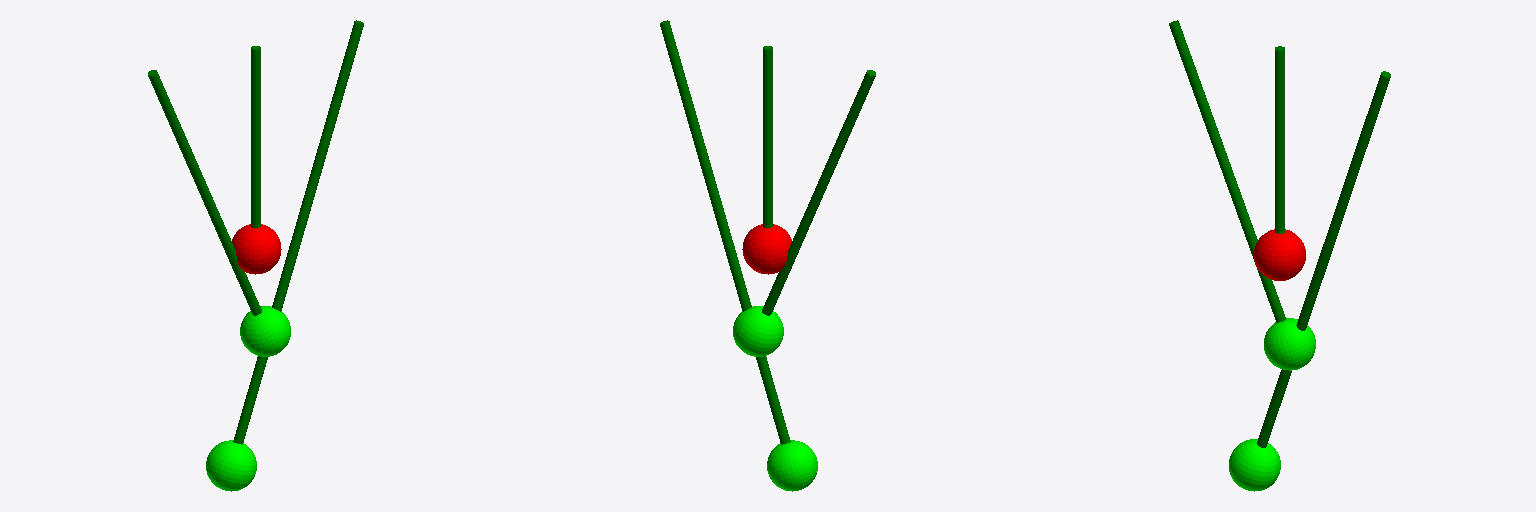
The robot description file, URDF, robot "straw_cluster8":
<?xml version="1.0" ?>
<!-- =================================================================================== -->
<!-- |    This document was autogenerated by xacro from cluster8_extras.xacro          | -->
<!-- |    EDITING THIS FILE BY HAND IS NOT RECOMMENDED                                 | -->
<!-- =================================================================================== -->
<robot name="straw_cluster8" xmlns:xacro="http://www.ros.org/wiki/xacro">
  <link name="world"/>
  <!-- Robot21 -->
  <link name="/yball_stem81">
    <gravity>1</gravity>
    <inertial>
      <origin rpy="0 0 0" xyz="0 0 0"/>
      <mass value=".00001"/>
      <inertia ixx="0.0000004" ixy="0.0" ixz="0.0" iyy="0.0000004" iyz="0.0" izz="0.0000004"/>
    </inertial>
    <visual>
      <geometry>
        <sphere radius=".00001"/>
      </geometry>
    </visual>
    <collision>
      <geometry>
        <sphere radius=".00001"/>
      </geometry>
    </collision>
  </link>
  <gazebo reference="/yball_stem81">
    <material>Gazebo/Green</material>
  </gazebo>
  <joint name="/stem81y" type="revolute">
    <parent link="world"/>
    <child link="/yball_stem81"/>
    <origin rpy="0 0 0" xyz="-0.15 -0.95 1.19"/>
    <!-- <origin xyz="0 0.06 1.19" rpy="0 0 0"/> in case of reference /base_link -->
    <axis xyz="0 1 0"/>
    <dynamics damping="0.0001" friction="0.0002"/>
    <limit effort="0.1" lower="-3.14159265359" upper="3.14159265359" velocity="1"/>
  </joint>
  <link name="/xball_stem81">
    <gravity>1</gravity>
    <inertial>
      <origin rpy="0 0 0" xyz="0 0 0"/>
      <mass value=".00001"/>
      <inertia ixx="0.0000004" ixy="0.0" ixz="0.0" iyy="0.0000004" iyz="0.0" izz="0.0000004"/>
    </inertial>
    <visual>
      <geometry>
        <sphere radius=".00001"/>
      </geometry>
    </visual>
    <collision>
      <geometry>
        <sphere radius=".00001"/>
      </geometry>
    </collision>
  </link>
  <gazebo reference="/xball_stem81">
    <material>Gazebo/Green</material>
  </gazebo>
  <joint name="/stem81x" type="revolute">
    <parent link="/yball_stem81"/>
    <child link="/xball_stem81"/>
    <origin rpy="0 0 0" xyz="0 0 0"/>
    <axis xyz="1 0 0"/>
    <dynamics damping="0.0001" friction="0.0002"/>
    <limit effort="0.1" lower="-3.14159265359" upper="3.14159265359" velocity="0.1"/>
  </joint>
  <!-- Define stem of straw81 -->
  <link name="/stem81">
    <gravity>1</gravity>
    <inertial>
      <origin rpy="0 0 0" xyz="0 0 0"/>
      <mass value="0.0002"/>
      <inertia ixx="0.0000000005" ixy="0.0" ixz="0.0" iyy="0.0000000005" iyz="0.0" izz="0.0000000005"/>
    </inertial>
    <collision>
      <geometry>
        <cylinder length="0.13" radius="0.003"/>
      </geometry>
      <material name="green">
        <color rgba="0 0.501960784314 0 1"/>
      </material>
      <origin rpy="0 0 0" xyz="0 0 -0.065"/>
    </collision>
    <visual>
      <geometry>
        <cylinder length="0.13" radius="0.003"/>
      </geometry>
      <material name="green">
        <color rgba="0 0.501960784314 0 1"/>
      </material>
      <origin rpy="0 0 0" xyz="0 0 -0.065"/>
    </visual>
  </link>
  <gazebo reference="/stem81">
    <mu1>0.01</mu1>
    <mu2>0.01</mu2>
    <selfCollide>true</selfCollide>
    <maxContacts>2</maxContacts>
    <minDepth>0</minDepth>
    <maxVel>0.01</maxVel>
    <kp value="1"/>
    <kd value="0.1"/>
    <material>Gazebo/Green</material>
  </gazebo>
  <joint name="/xball_stem81" type="fixed">
    <parent link="/xball_stem81"/>
    <child link="/stem81"/>
    <origin rpy="0 0 0" xyz="0 0 0"/>
  </joint>
  <!-- Define straw81 -->
  <link name="/straw81">
    <gravity>1</gravity>
    <inertial>
      <origin rpy="0 0 0" xyz="0 0 0"/>
      <mass value="0.0002"/>
      <inertia ixx="0.00000018" ixy="0.0" ixz="0.0" iyy="0.00000018" iyz="0.0" izz="0.00000018"/>
    </inertial>
    <collision>
      <geometry>
        <sphere radius="0.015"/>
      </geometry>
    </collision>
    <visual>
      <geometry>
        <sphere radius="0.015"/>
      </geometry>
      <material name="Red">
        <color rgba="1 0 0 1"/>
      </material>
    </visual>
  </link>
  <gazebo reference="/straw81">
    <mu1>0.01</mu1>
    <mu2>0.01</mu2>
    <selfCollide>true</selfCollide>
    <maxContacts>2</maxContacts>
    <minDepth>0</minDepth>
    <maxVel>0.01</maxVel>
    <kp value="1000"/>
    <kd value="1"/>
    <material>Gazebo/Red</material>
  </gazebo>
  <joint name="/straw1_stem81" type="revolute">
    <parent link="/stem81"/>
    <child link="/straw81"/>
    <origin rpy="0 0 0" xyz="0 0 -0.13"/>
    <axis xyz="0 1 0"/>
    <dynamics damping="0.0000001" friction="0.0000002"/>
    <limit effort="0.01" lower="-3.14159265359" upper="3.14159265359" velocity="0.1"/>
  </joint>
  <!-- Robot22 -->
  <link name="/yball_stem82">
    <gravity>1</gravity>
    <inertial>
      <origin rpy="0 0 0" xyz="0 0 0"/>
      <mass value=".00001"/>
      <inertia ixx="0.00001" ixy="0.0" ixz="0.0" iyy="0.00001" iyz="0.0" izz="0.00001"/>
    </inertial>
    <visual>
      <geometry>
        <sphere radius=".00001"/>
      </geometry>
    </visual>
    <collision>
      <geometry>
        <sphere radius=".00001"/>
      </geometry>
    </collision>
  </link>
  <gazebo reference="/yball_stem82">
    <material>Gazebo/Green</material>
  </gazebo>
  <joint name="/stem82y" type="revolute">
    <parent link="world"/>
    <child link="/yball_stem82"/>
    <origin rpy="0 0.314159265359 0" xyz="-0.08 -0.95 1.19"/>
    <!-- <origin xyz="-0.03 0.06 1.21" rpy="0 0 0"/> in case of /base_link as reference frame -->
    <axis xyz="0 1 0"/>
    <dynamics damping="0.001" friction="0.002"/>
    <!--<dynamics damping="100" friction="100000"/> -->
    <limit effort="100" lower="-3.14159265359" upper="3.14159265359" velocity="1"/>
  </joint>
  <link name="/xball_stem82">
    <gravity>1</gravity>
    <inertial>
      <origin rpy="0 0 0" xyz="0 0 0"/>
      <mass value=".00001"/>
      <inertia ixx="0.00001" ixy="0.0" ixz="0.0" iyy="0.00001" iyz="0.0" izz="0.00001"/>
    </inertial>
    <visual>
      <geometry>
        <sphere radius=".00001"/>
      </geometry>
    </visual>
    <collision>
      <geometry>
        <sphere radius=".00001"/>
      </geometry>
    </collision>
  </link>
  <gazebo reference="/xball_stem82">
    <material>Gazebo/Green</material>
  </gazebo>
  <joint name="/stem82x" type="revolute">
    <parent link="/yball_stem82"/>
    <child link="/xball_stem82"/>
    <origin rpy="0 0 0" xyz="0 0 0"/>
    <axis xyz="1 0 0"/>
    <dynamics damping="0.001" friction="0.002"/>
    <!--<dynamics damping="1" friction="1000" /> -->
    <limit effort="100" lower="-3.14159265359" upper="3.14159265359" velocity="1"/>
  </joint>
  <!-- Define stem of straw82 -->
  <link name="/stem82">
    <gravity>1</gravity>
    <inertial>
      <origin rpy="0 0 0" xyz="0 0 0"/>
      <mass value="0.0001"/>
      <inertia ixx="0.0000000005" ixy="0.0" ixz="0.0" iyy="0.0000000005" iyz="0.0" izz="0.0000000005"/>
    </inertial>
    <collision>
      <geometry>
        <cylinder length="0.28" radius="0.003"/>
        <!-- was 0.15 -->
      </geometry>
      <material name="green">
        <color rgba="0 0.501960784314 0 1"/>
      </material>
      <origin rpy="0 0 0" xyz="0 0 -0.14"/>
    </collision>
    <visual>
      <geometry>
        <cylinder length="0.28" radius="0.003"/>
      </geometry>
      <material name="green">
        <color rgba="0 0.501960784314 0 1"/>
      </material>
      <origin rpy="0 0 0" xyz="0 0 -0.14"/>
    </visual>
  </link>
  <gazebo reference="/stem82">
    <mu1>0.01</mu1>
    <mu2>0.01</mu2>
    <selfCollide>true</selfCollide>
    <maxContacts>2</maxContacts>
    <minDepth>0</minDepth>
    <maxVel>0.01</maxVel>
    <kp value="1000"/>
    <kd value="1"/>
    <material>Gazebo/Green</material>
  </gazebo>
  <joint name="/xball_stem82" type="fixed">
    <parent link="/xball_stem82"/>
    <child link="/stem82"/>
    <origin rpy="0 0 0" xyz="0 0 0"/>
  </joint>
  <!-- Define straw82 -->
  <link name="/straw82">
    <gravity>1</gravity>
    <inertial>
      <origin rpy="0 0 0" xyz="0 0 0"/>
      <mass value="0.0002"/>
      <inertia ixx="0.00000018" ixy="0.0" ixz="0.0" iyy="0.00000018" iyz="0.0" izz="0.00000018"/>
    </inertial>
    <collision>
      <geometry>
        <sphere radius="0.015"/>
      </geometry>
    </collision>
    <visual>
      <geometry>
        <sphere radius="0.015"/>
      </geometry>
      <material name="green">
        <color rgba="0 1 0 1"/>
      </material>
    </visual>
  </link>
  <gazebo reference="/straw82">
    <mu1>0.01</mu1>
    <mu2>0.01</mu2>
    <selfCollide>true</selfCollide>
    <maxContacts>2</maxContacts>
    <minDepth>0</minDepth>
    <maxVel>0.01</maxVel>
    <kp value="1000"/>
    <kd value="1"/>
    <material>Gazebo/Green</material>
  </gazebo>
  <joint name="/straw82_stem82" type="revolute">
    <parent link="/stem82"/>
    <child link="/straw82"/>
    <origin rpy="0 0 0" xyz="0 0 -0.28"/>
    <axis xyz="0 1 0"/>
    <dynamics damping="0.0000001" friction="0.0000002"/>
    <limit effort="1" lower="-3.14159265359" upper="3.14159265359" velocity="0.1"/>
  </joint>
  <!-- Robot 23 -->
  <link name="/yball_stem83">
    <gravity>1</gravity>
    <inertial>
      <origin rpy="0 0 0" xyz="0 0 0"/>
      <mass value=".00001"/>
      <inertia ixx="0.00001" ixy="0.0" ixz="0.0" iyy="0.00001" iyz="0.0" izz="0.00001"/>
    </inertial>
    <visual>
      <geometry>
        <sphere radius=".00001"/>
      </geometry>
    </visual>
    <collision>
      <geometry>
        <sphere radius=".00001"/>
      </geometry>
    </collision>
  </link>
  <gazebo reference="/yball_stem83">
    <material>Gazebo/Green</material>
  </gazebo>
  <joint name="/stem83y" type="revolute">
    <parent link="world"/>
    <child link="/yball_stem83"/>
    <origin rpy="0 -0.392699081699 0" xyz="-0.22 -0.95 1.19"/>
    <!-- <origin xyz="-0.03 0.06 1.21" rpy="0 0 0"/> in case of /base_link as reference frame -->
    <axis xyz="0 1 0"/>
    <dynamics damping="0.0001" friction="0.0002"/>
    <!--<dynamics damping="100" friction="100000"/>-->
    <limit effort="10" lower="-3.14159265359" upper="3.14159265359" velocity="1"/>
  </joint>
  <link name="/xball_stem83">
    <gravity>1</gravity>
    <inertial>
      <origin rpy="0 0 0" xyz="0 0 0"/>
      <mass value=".00001"/>
      <inertia ixx="0.00001" ixy="0.0" ixz="0.0" iyy="0.00001" iyz="0.0" izz="0.00001"/>
    </inertial>
    <visual>
      <geometry>
        <sphere radius=".00001"/>
      </geometry>
    </visual>
    <collision>
      <geometry>
        <sphere radius=".00001"/>
      </geometry>
    </collision>
  </link>
  <gazebo reference="/xball_stem83">
    <material>Gazebo/Green</material>
  </gazebo>
  <joint name="/stem83x" type="revolute">
    <parent link="/yball_stem83"/>
    <child link="/xball_stem83"/>
    <origin rpy="0 0 0" xyz="0 0 0"/>
    <axis xyz="1 0 0"/>
    <dynamics damping="0.0001" friction="0.0002"/>
    <limit effort="10" lower="-3.14159265359" upper="3.14159265359" velocity="1"/>
  </joint>
  <!-- Define stem of straw83 -->
  <link name="/stem83">
    <gravity>1</gravity>
    <inertial>
      <origin rpy="0 0 0" xyz="0 0 0"/>
      <mass value="0.0001"/>
      <inertia ixx="0.0000000005" ixy="0.0" ixz="0.0" iyy="0.0000000005" iyz="0.0" izz="0.0000000005"/>
    </inertial>
    <collision>
      <geometry>
        <cylinder length="0.2" radius="0.003"/>
        <!-- was 0.15 -->
      </geometry>
      <material name="green">
        <color rgba="0 0.501960784314 0 1"/>
      </material>
      <origin rpy="0 0 0" xyz="0 0 -0.1"/>
    </collision>
    <visual>
      <geometry>
        <cylinder length="0.2" radius="0.003"/>
      </geometry>
      <material name="green">
        <color rgba="0 0.501960784314 0 1"/>
      </material>
      <origin rpy="0 0 0" xyz="0 0 -0.1"/>
    </visual>
  </link>
  <gazebo reference="/stem83">
    <mu1>0.01</mu1>
    <mu2>0.01</mu2>
    <selfCollide>true</selfCollide>
    <maxContacts>2</maxContacts>
    <minDepth>0</minDepth>
    <maxVel>0.01</maxVel>
    <kp value="10"/>
    <kd value="1"/>
    <material>Gazebo/Green</material>
  </gazebo>
  <joint name="/xball_stem83" type="fixed">
    <parent link="/xball_stem83"/>
    <child link="/stem83"/>
    <origin rpy="0 0 0" xyz="0 0 0"/>
  </joint>
  <!-- Define straw83 -->
  <link name="/straw83">
    <gravity>1</gravity>
    <inertial>
      <origin rpy="0 0 0" xyz="0 0 0"/>
      <mass value="0.0002"/>
      <inertia ixx="0.00000018" ixy="0.0" ixz="0.0" iyy="0.00000018" iyz="0.0" izz="0.00000018"/>
    </inertial>
    <collision>
      <geometry>
        <sphere radius="0.015"/>
      </geometry>
    </collision>
    <visual>
      <geometry>
        <sphere radius="0.015"/>
      </geometry>
      <material name="green">
        <color rgba="0 1 0 1"/>
      </material>
    </visual>
  </link>
  <gazebo reference="/straw83">
    <mu1>0.01</mu1>
    <mu2>0.01</mu2>
    <selfCollide>true</selfCollide>
    <maxContacts>2</maxContacts>
    <minDepth>0</minDepth>
    <maxVel>0.01</maxVel>
    <kp value="10"/>
    <kd value="1"/>
    <material>Gazebo/Green</material>
  </gazebo>
  <joint name="/straw83_stem83" type="revolute">
    <parent link="/stem83"/>
    <child link="/straw83"/>
    <origin rpy="0 0 0" xyz="0 0 -0.2"/>
    <axis xyz="0 1 0"/>
    <dynamics damping="0.0000001" friction="0.0000002"/>
    <limit effort="0.01" lower="-3.14159265359" upper="3.14159265359" velocity="0.1"/>
  </joint>
  <gazebo>
    <plugin filename="libgazebo_ros_control.so" name="gazebo_ros_control">
      <robotSimType>gazebo_ros_control/DefaultRobotHWSim</robotSimType>
      <legacyModeNS>true</legacyModeNS>
      <robotNamespace>/straw_cluster8</robotNamespace>
    </plugin>
  </gazebo>
</robot>

--- Facts derived from the render (not from the file) ---
The picture shows the robot from 3 angles, left to right: view 1: azimuth 30°, elevation 25°; view 2: azimuth 150°, elevation 25°; view 3: azimuth 330°, elevation 25°; orthographic projection.
Robot: straw_cluster8 — 13 links, 12 joints (9 revolute, 3 fixed); root link world; default pose: all joints at 0.
Visible links, largest first — view 1: /stem82, /stem83, /straw82, /straw83, /straw81, /stem81; view 2: /stem82, /stem83, /straw82, /straw83, /straw81, /stem81; view 3: /stem82, /stem83, /straw81, /straw82, /straw83, /stem81.
Boxes of the visible links, x1=… form: /stem82: x1=233, y1=20, x2=363, y2=444; /stem83: x1=148, y1=70, x2=261, y2=315; /straw82: x1=206, y1=440, x2=256, y2=491; /straw83: x1=240, y1=306, x2=290, y2=356; /straw81: x1=232, y1=224, x2=281, y2=274; /stem81: x1=251, y1=46, x2=260, y2=227; /stem82: x1=660, y1=20, x2=790, y2=444; /stem83: x1=762, y1=70, x2=875, y2=315; /straw82: x1=767, y1=440, x2=817, y2=491; /straw83: x1=733, y1=306, x2=783, y2=356; /straw81: x1=742, y1=224, x2=791, y2=274; /stem81: x1=763, y1=46, x2=772, y2=227; /stem82: x1=1257, y1=71, x2=1390, y2=447; /stem83: x1=1169, y1=20, x2=1285, y2=322; /straw81: x1=1254, y1=229, x2=1305, y2=280; /straw82: x1=1229, y1=439, x2=1280, y2=491; /straw83: x1=1264, y1=318, x2=1315, y2=370; /stem81: x1=1275, y1=46, x2=1284, y2=233.
Bounding box of the posed robot: 0.1456 × 0.03 × 0.2824 m (x, y, z).
Geometry: primitives only (box / cylinder / sphere), no mesh files.
